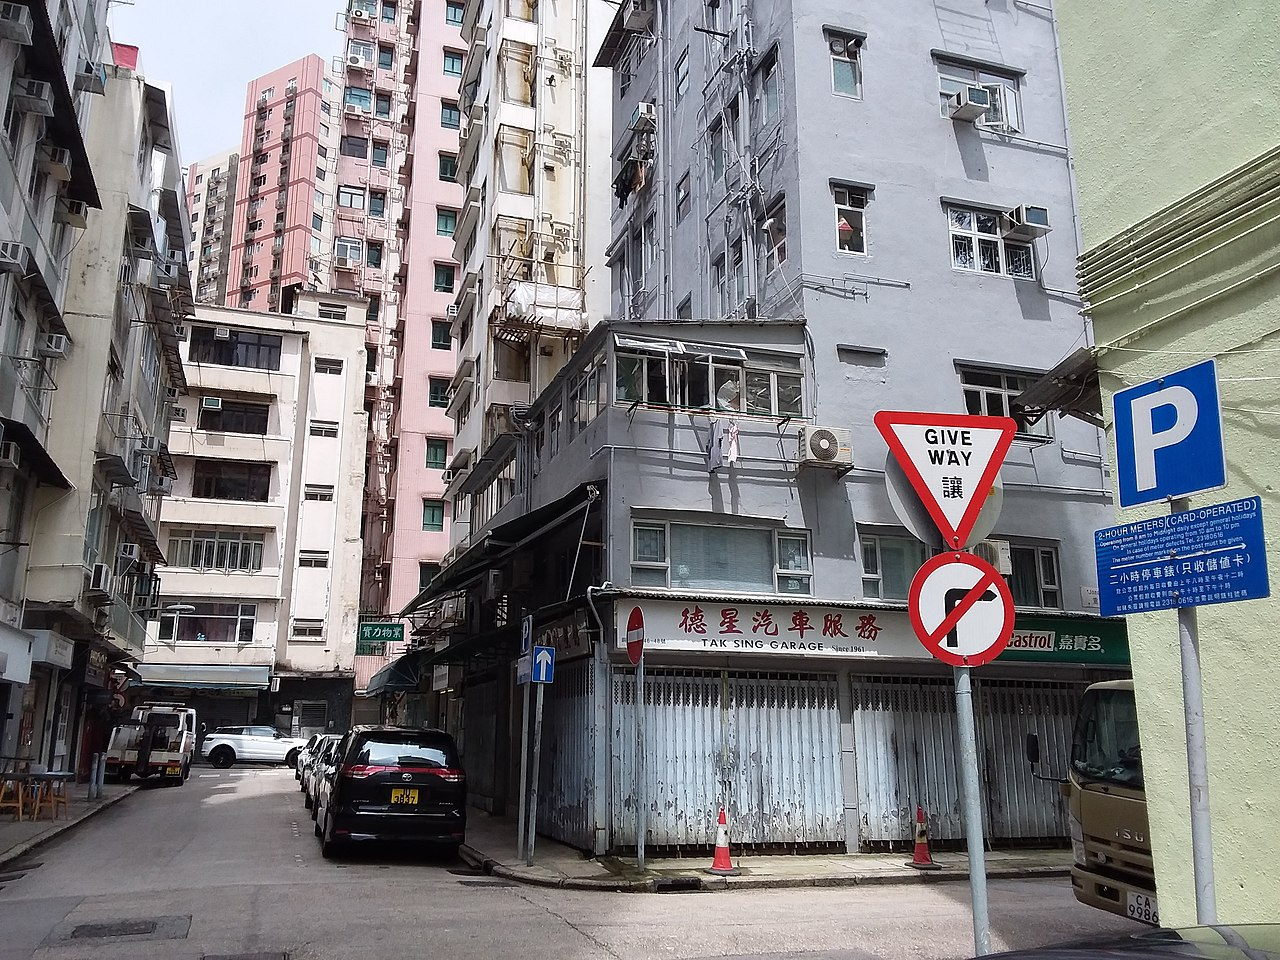Give Way: (873, 403, 1018, 553)
No Turn Right: (911, 555, 1021, 669)
Parking: (1112, 360, 1227, 505)
